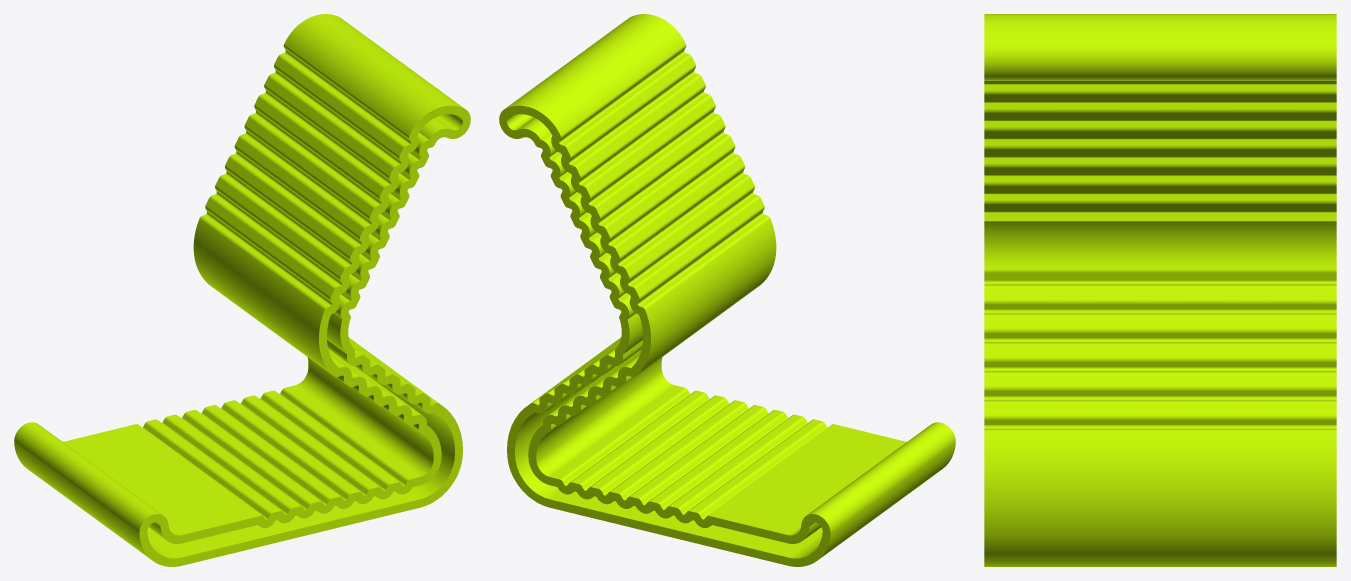
Rendered from portetel.glb.
3 views of the same model, side by side, from view 1: azimuth 30°, elevation 25°; view 2: azimuth 150°, elevation 25°; view 3: azimuth 270°, elevation 25° (orthographic). The views are drawn at different scales.
Parts seen in each view (by area): view 1: SLD_3(725A0342-3129-47A0-913C-4D49E857C3B2); view 2: SLD_3(725A0342-3129-47A0-913C-4D49E857C3B2); view 3: SLD_3(725A0342-3129-47A0-913C-4D49E857C3B2).
Boxes of the visible parts, x1,y1,x2,y2 form: SLD_3(725A0342-3129-47A0-913C-4D49E857C3B2): (14, 14, 470, 566); SLD_3(725A0342-3129-47A0-913C-4D49E857C3B2): (499, 14, 955, 566); SLD_3(725A0342-3129-47A0-913C-4D49E857C3B2): (984, 14, 1336, 566).
Bounding box in the file's own units: 0.0917 × 0.1045 × 0.06.
